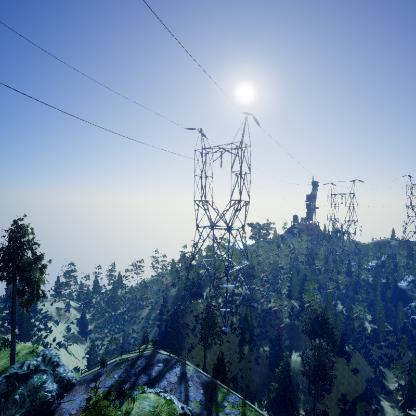tower: (179, 111, 272, 335), (320, 176, 364, 264)
